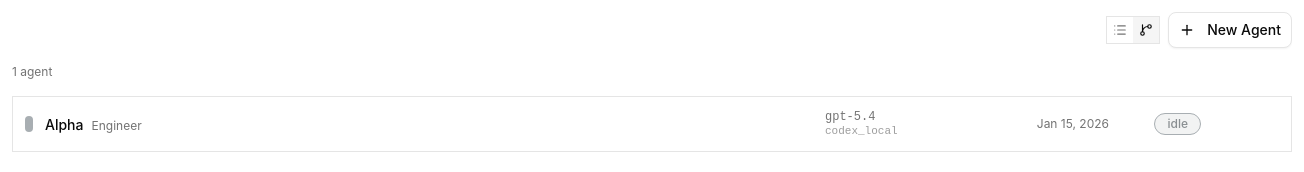
Test: Agents › gives list-view rows a fixed-width title so meta columns align (PAP-86)
This screenshot has width=1304, height=172.
Click the 1st button.
click(1120, 30)  # box [1107,17,1133,43]
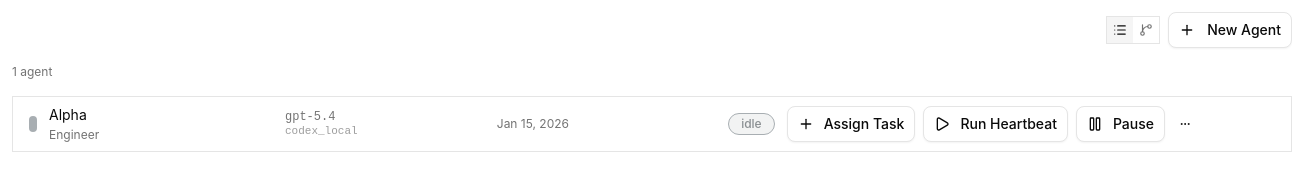
Check: the element showing "Alpha Engineer" is shown, box [49,106,99,142]
